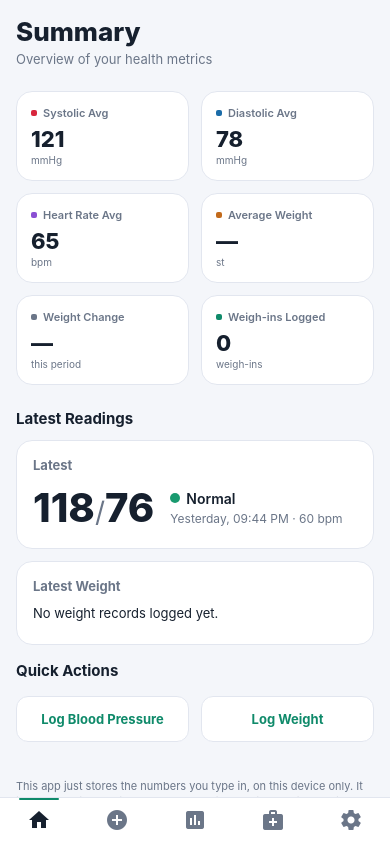
Test: App › plots both charts on the trends tab
expect the text "Summary" is shown: met, box [16, 16, 141, 47]
Click the tab named "Log" at (117, 820), box [105, 808, 129, 832]
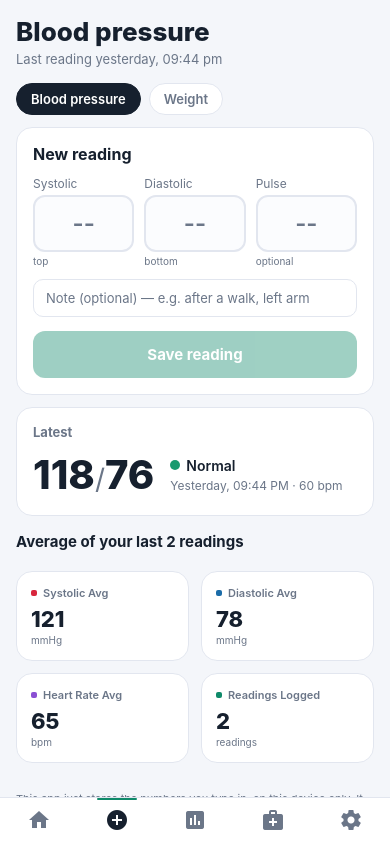
expect the text "New reading" is shown: met, box [33, 144, 132, 164]
Click the tab named "Trends" at (195, 820), box [183, 808, 207, 832]
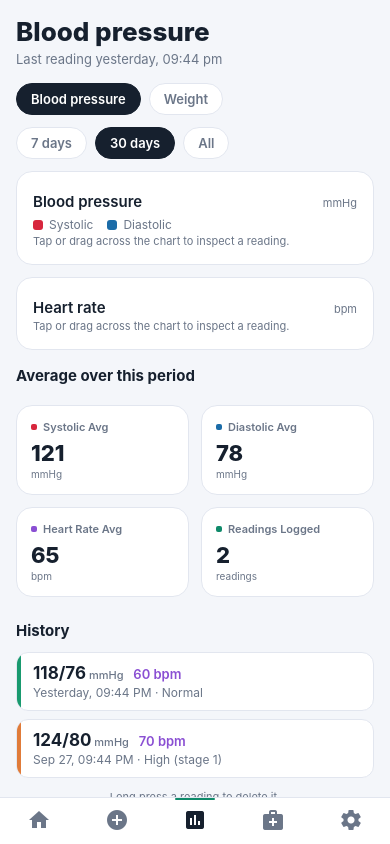
expect the 1st text "mmHg" is shown: met, box [323, 196, 357, 210]
expect the text "Blood pressure" is shown 3 times: met, box [16, 16, 210, 47]; [31, 91, 126, 107]; [33, 192, 142, 211]
expect the text "Heart rate" is shown: met, box [33, 298, 106, 317]
